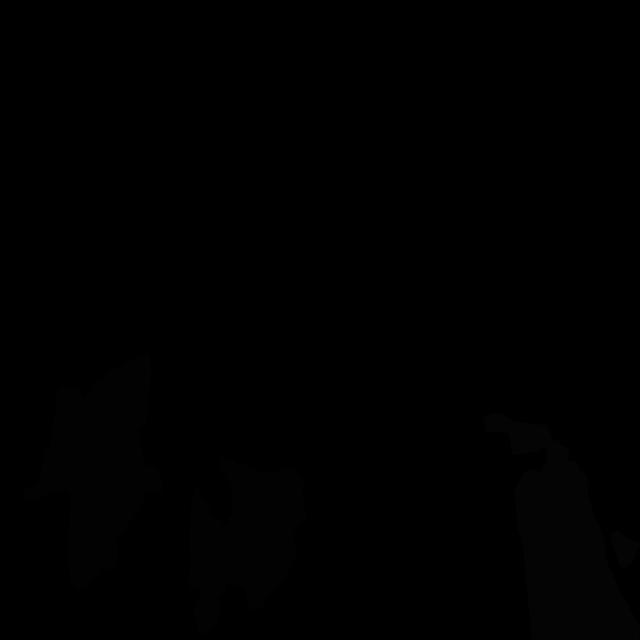cardboard: (23, 352, 163, 591), (186, 457, 308, 634)
soft_plastic: (514, 468, 640, 640), (484, 413, 606, 559), (610, 530, 640, 570)
